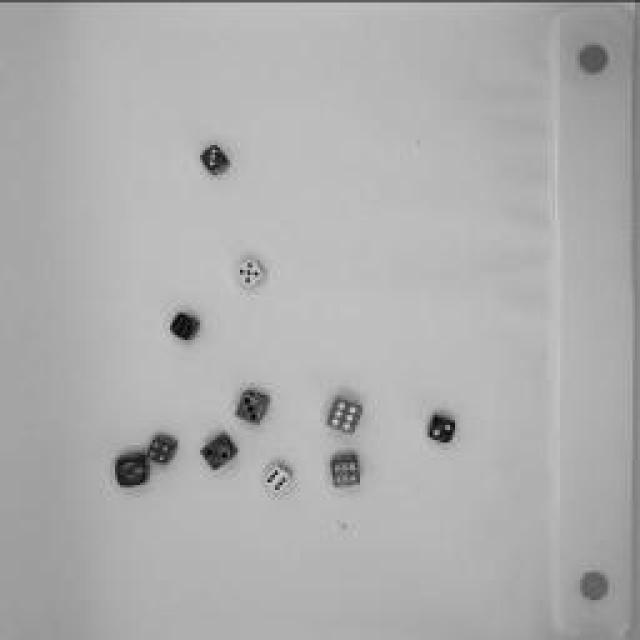dice_2: (200, 431, 240, 471), (426, 409, 459, 446)
dice_3: (234, 388, 276, 428), (198, 140, 234, 178), (114, 449, 148, 489)
dice_4: (148, 434, 182, 466)
dice_5: (234, 255, 271, 290)
dice_6: (325, 395, 367, 433), (330, 450, 368, 490), (261, 459, 299, 496), (168, 308, 204, 344)
